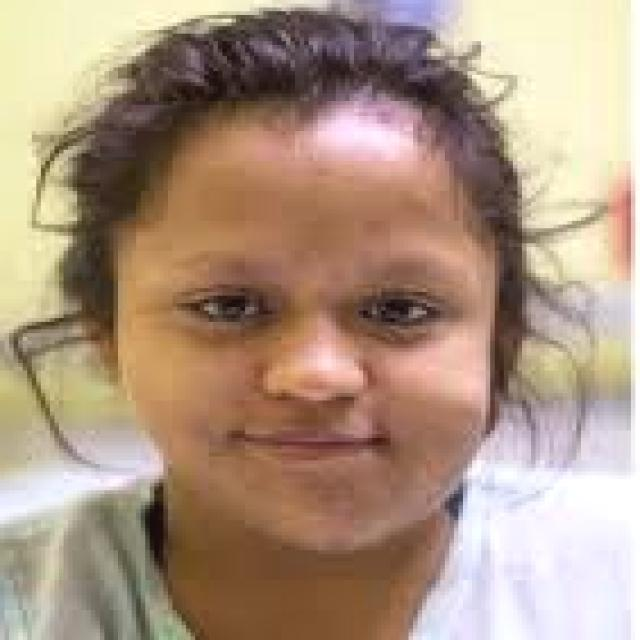normal_face: (117, 26, 536, 576)
